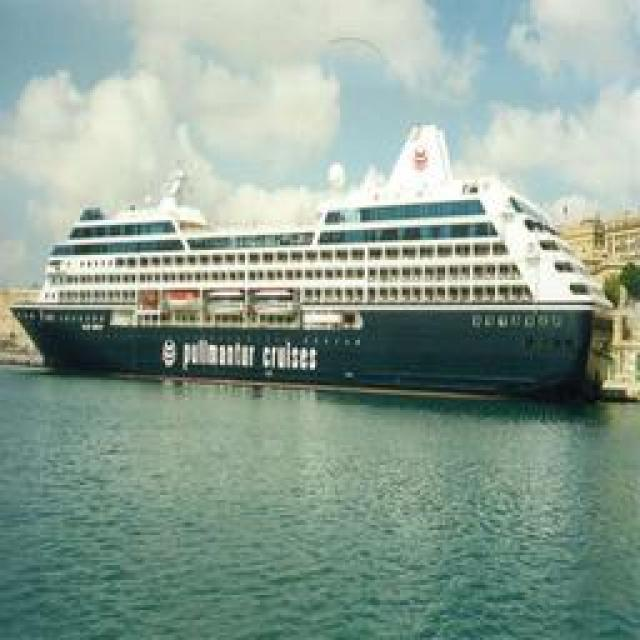CIV_Ship: (21, 126, 599, 396)
